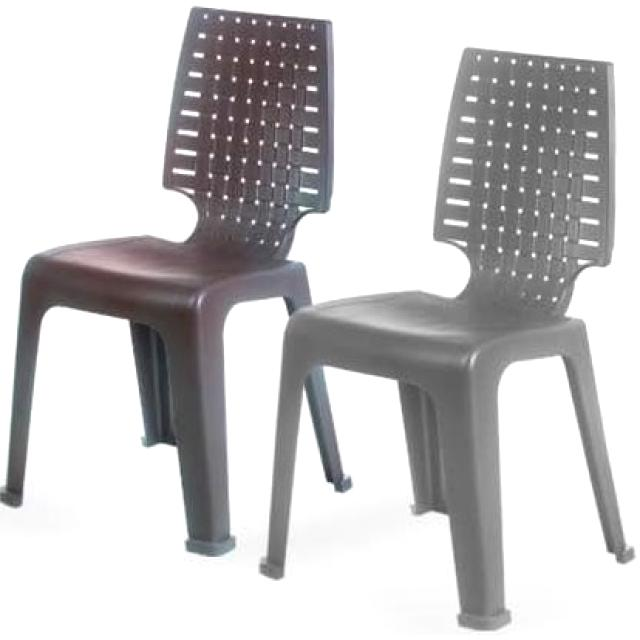Chair: (259, 44, 638, 632), (3, 6, 357, 560)
